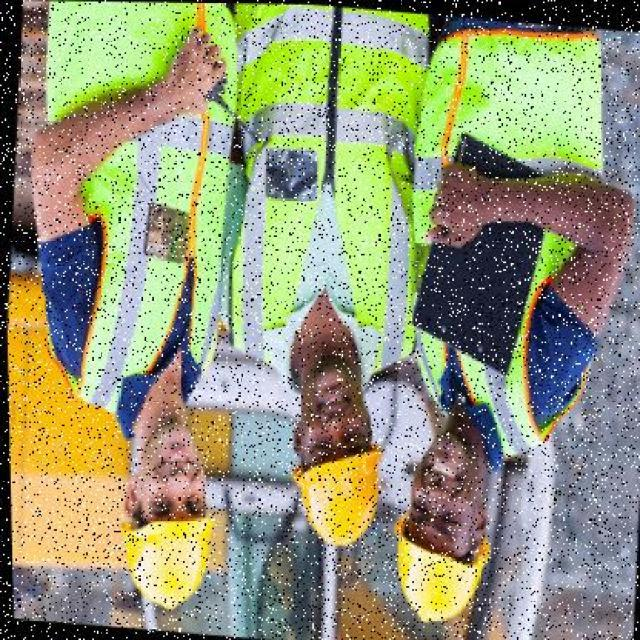helmet: (103, 496, 216, 614), (379, 515, 491, 629), (285, 443, 390, 555)
vest: (9, 0, 245, 415), (202, 3, 440, 387), (395, 29, 609, 455)
